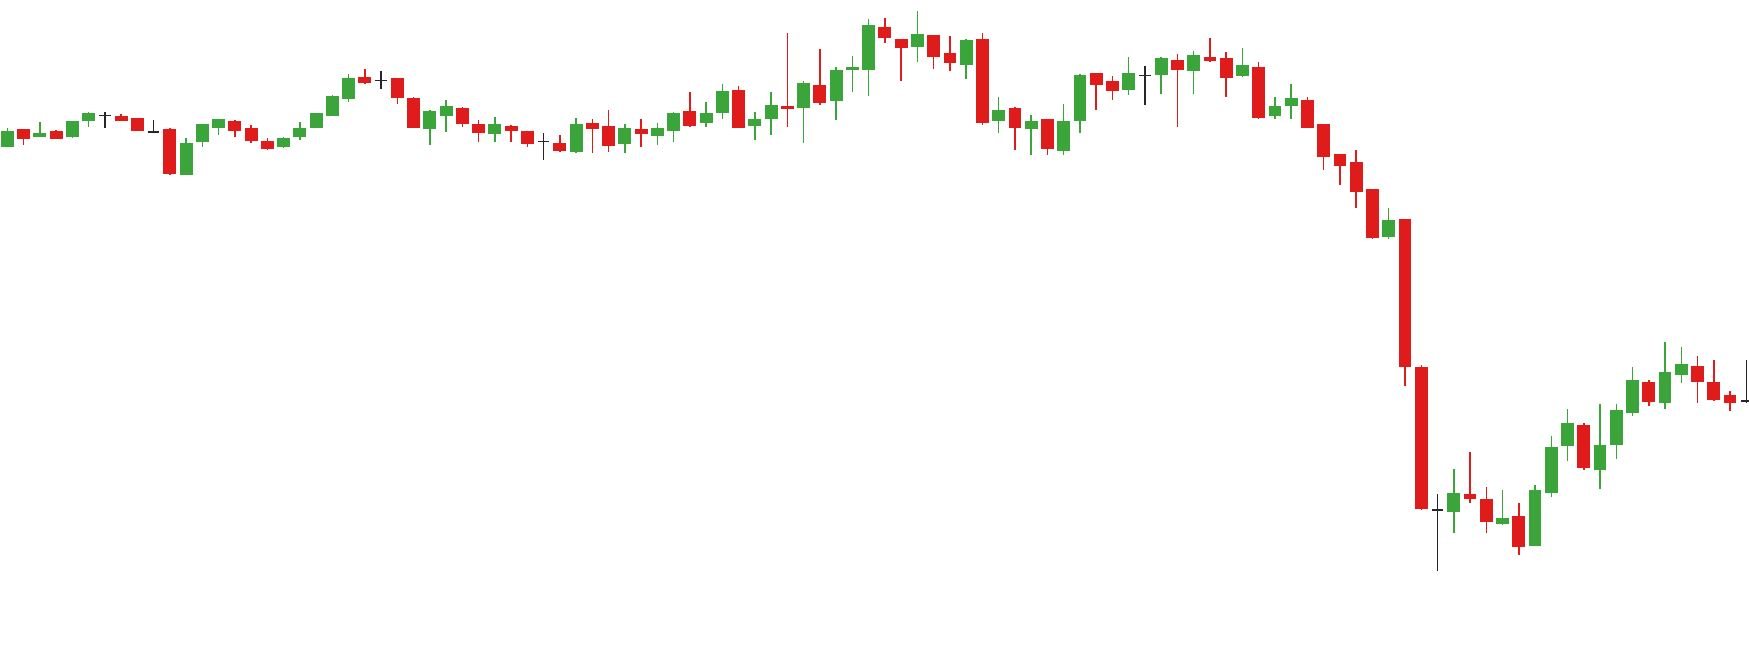sell: (779, 15, 893, 91)
